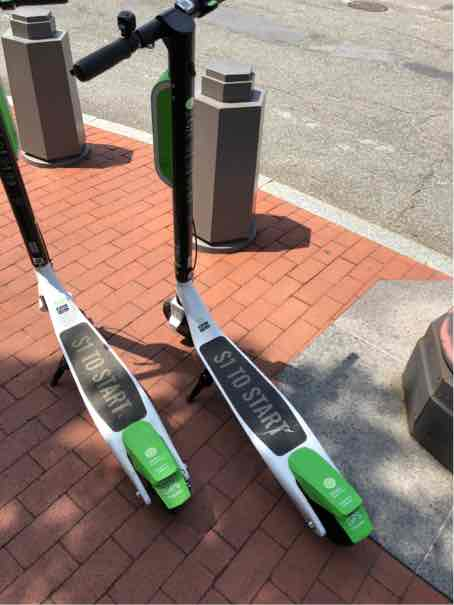scooter: (63, 1, 374, 549), (1, 72, 188, 518)
